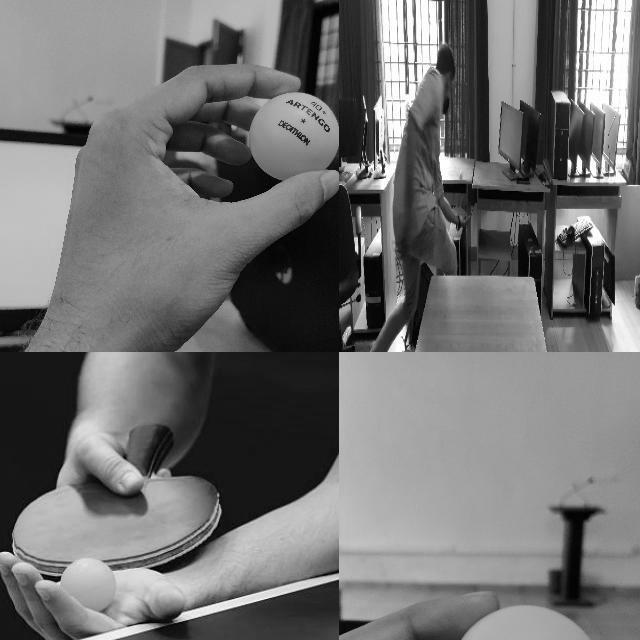ping-pong-ball: (248, 91, 338, 181), (449, 604, 605, 639), (60, 558, 116, 616), (459, 172, 463, 182)
